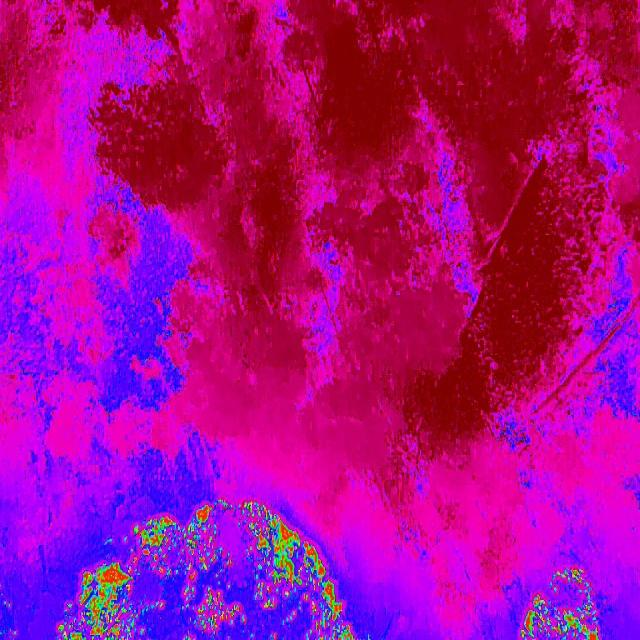fire: (132, 500, 302, 640), (51, 560, 132, 640), (519, 566, 602, 640), (302, 536, 328, 640), (328, 580, 342, 640), (343, 621, 357, 640)
